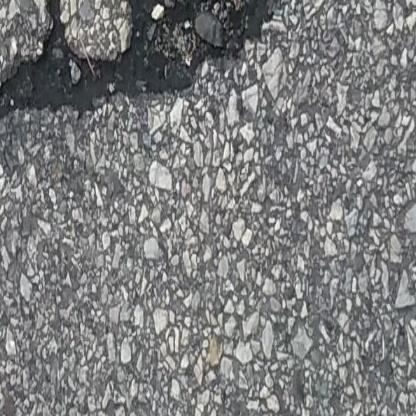Cracks: (0, 0, 328, 149)
